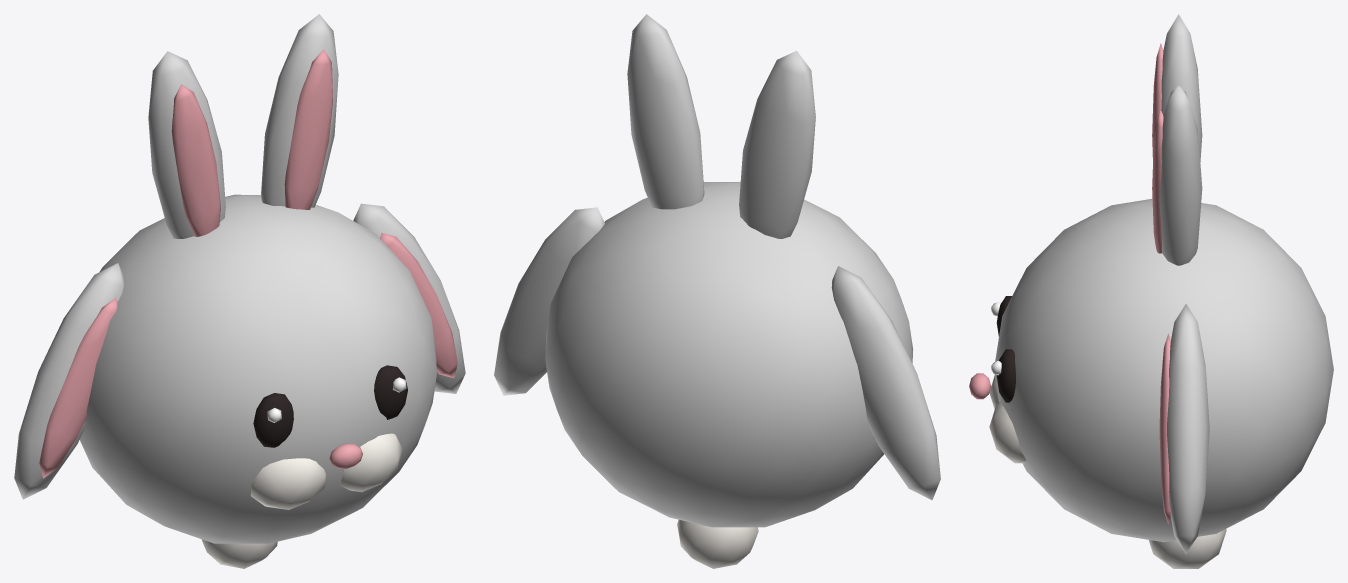
The model's file is animal.rabbit.glb.
3 views of the same model, side by side, from view 1: azimuth 30°, elevation 25°; view 2: azimuth 150°, elevation 25°; view 3: azimuth 270°, elevation 25° (orthographic). The views are drawn at different scales.
Parts seen in each view (by area): view 1: head, ears_upright, ears_floppy, tail; view 2: head, ears_upright, ears_floppy, tail; view 3: head, ears_upright, ears_floppy, tail.
Part boxes in pixels (box(x1,y1,x2,y2)): head: box(79, 194, 436, 543); ears_upright: box(148, 14, 338, 238); ears_floppy: box(14, 203, 465, 499); tail: box(201, 539, 277, 568); head: box(545, 182, 913, 527); ears_upright: box(627, 14, 815, 238); ears_floppy: box(494, 207, 940, 499); tail: box(677, 520, 758, 568); head: box(969, 198, 1333, 542); ears_upright: box(1152, 14, 1202, 265); ears_floppy: box(1159, 304, 1209, 554); tail: box(1148, 529, 1226, 568).
Size of the model in its own units: 0.6753 by 0.7724 by 0.4937.
